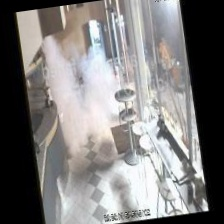smoke: (34, 25, 124, 151)
